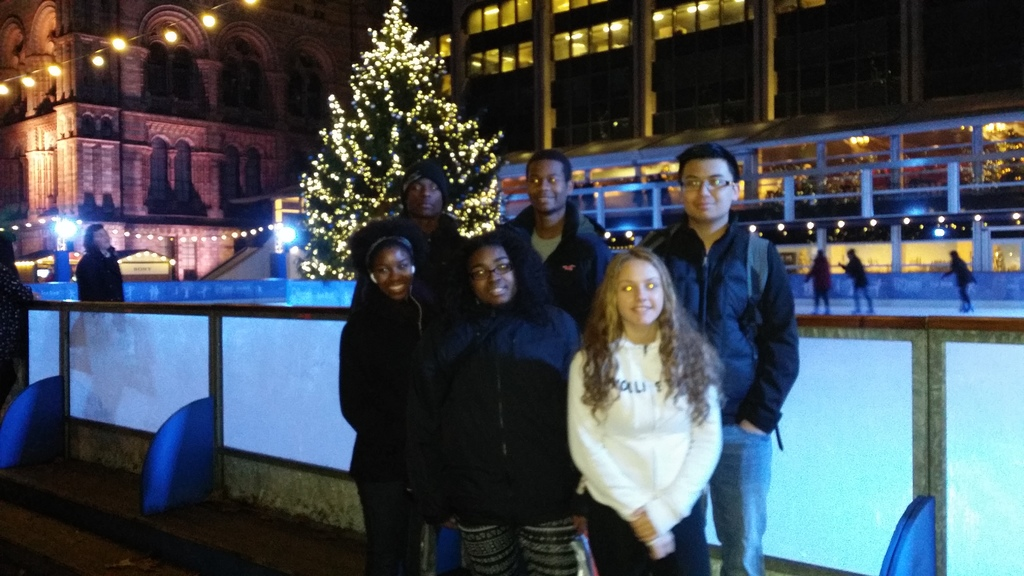Human-face: (618, 263, 664, 326), (682, 162, 725, 227), (526, 158, 569, 214), (371, 244, 414, 298), (474, 249, 514, 304), (408, 178, 444, 218), (94, 225, 110, 250)
